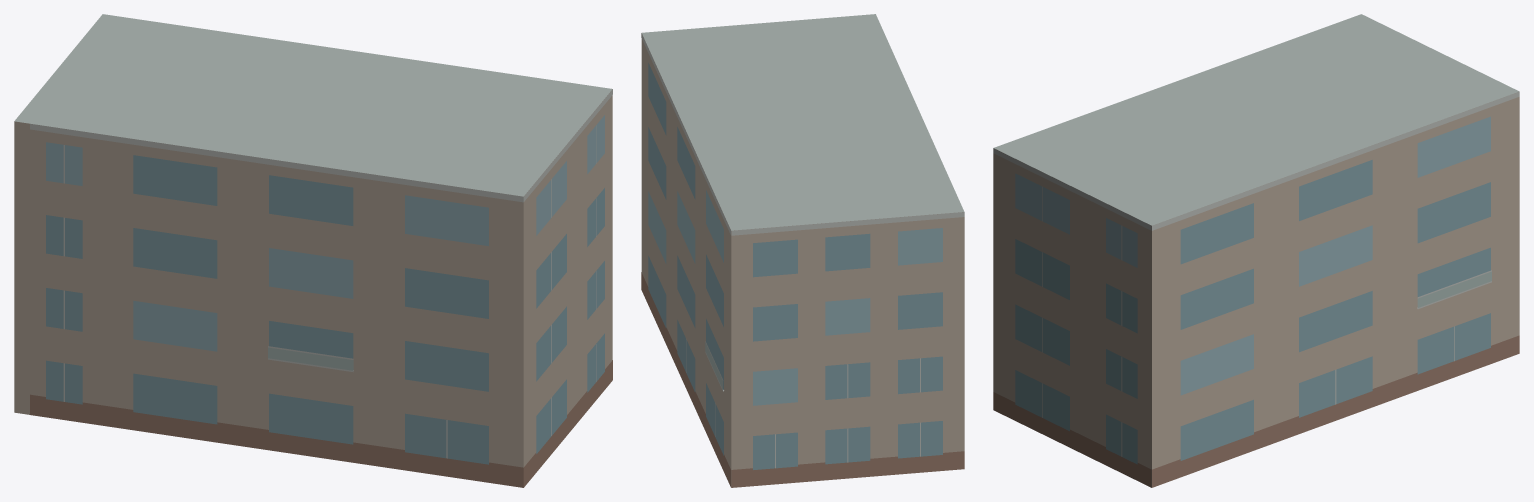
Rendered from survey-upis-32641854.glb.
3 views of the same model, side by side, from view 1: azimuth 30°, elevation 25°; view 2: azimuth 150°, elevation 25°; view 3: azimuth 270°, elevation 25° (orthographic). The views are drawn at different scales.
Visible parts, largest first — view 1: survey-upis-32641854.tmp; view 2: survey-upis-32641854.tmp; view 3: survey-upis-32641854.tmp.
Boxes of the visible parts, box(x1,y1,x2,y2) form: survey-upis-32641854.tmp: box(14, 14, 612, 487); survey-upis-32641854.tmp: box(641, 14, 964, 487); survey-upis-32641854.tmp: box(993, 14, 1519, 487).
Bounding box in the file's own units: 21.37 × 12.33 × 22.44.
